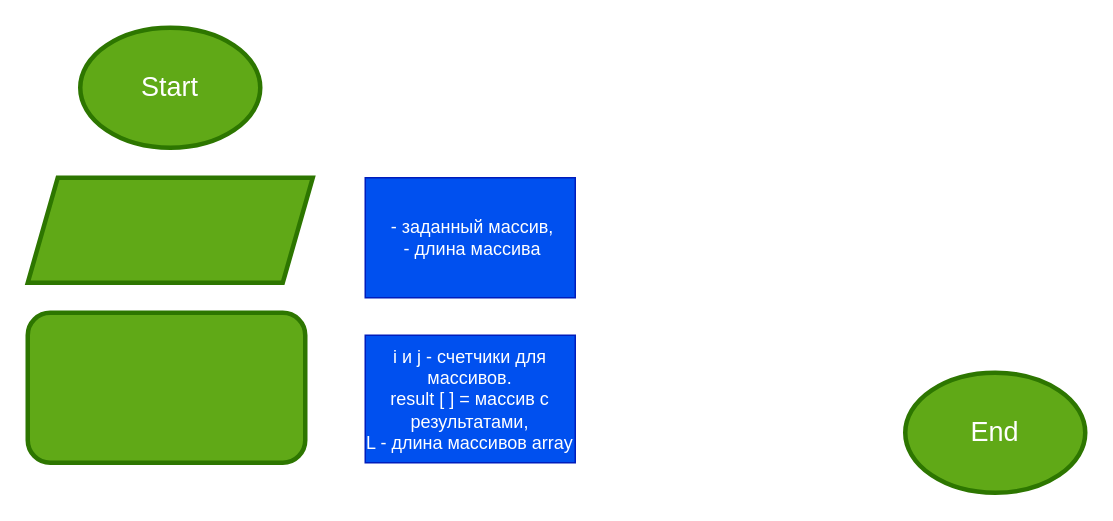
Image size: 1113x521. Some labels were removed from this diagram. Each missing label, with the centre of its shape:
"array [ i ], N" goes at [169,229].
"i=0, j=0, result [ ], L" goes at [166,387].
